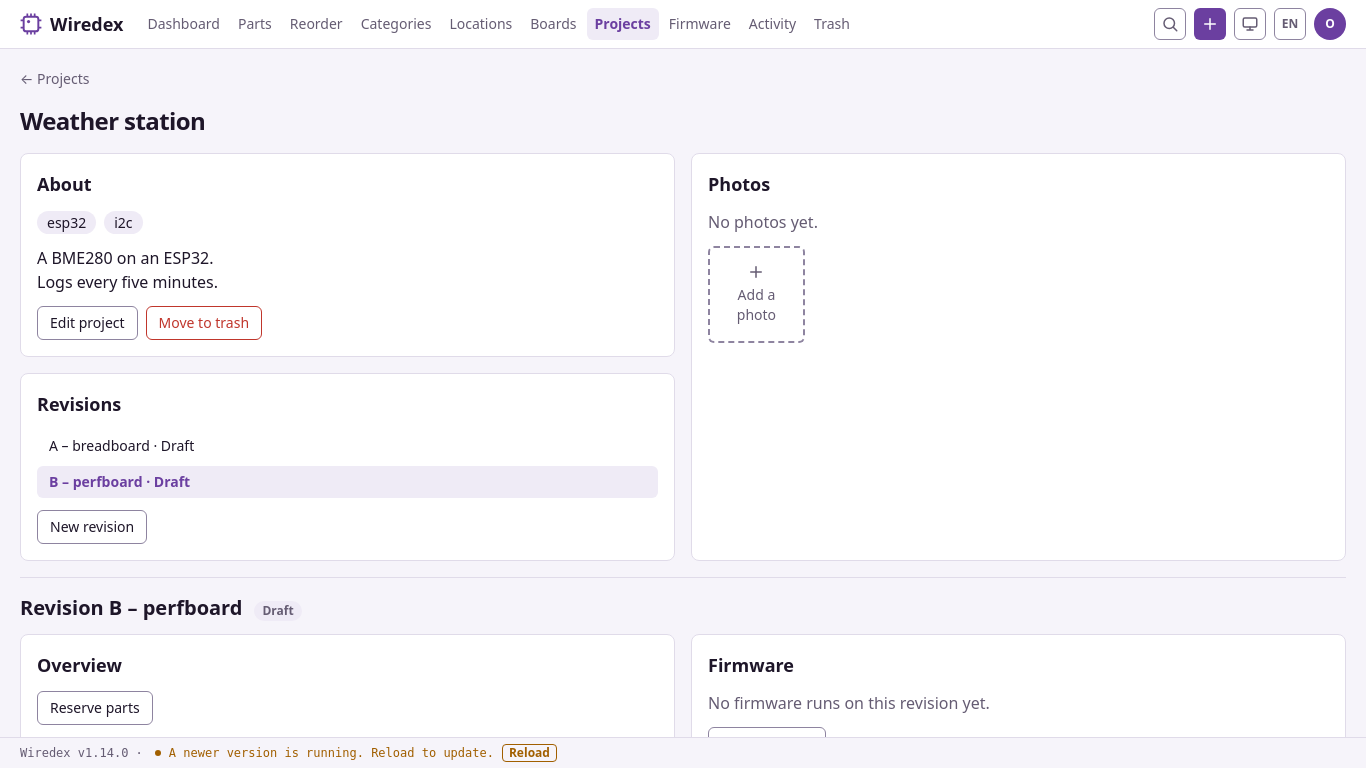
Test: ProjectPage › edits the project in place and shows the saved details
Click the button "Edit project" at [87, 323], box [37,306,138,340]
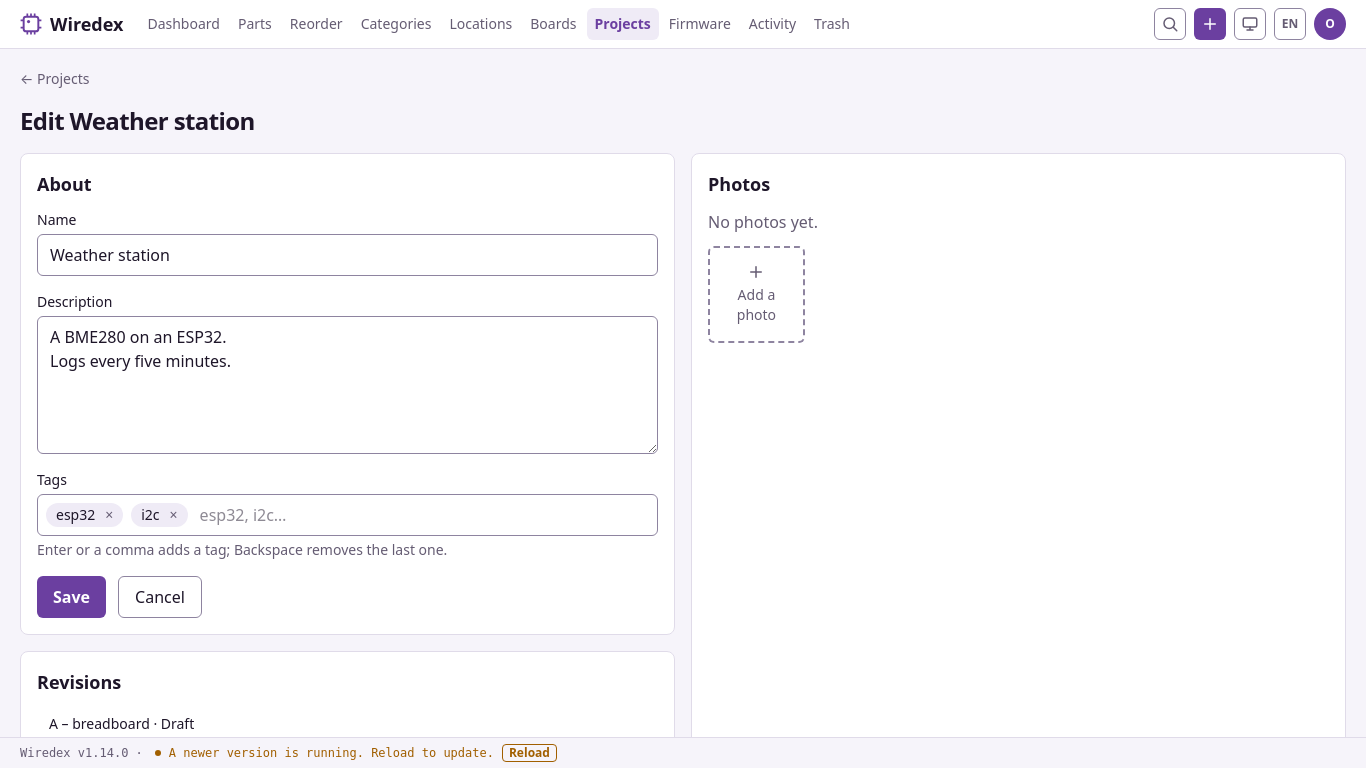
Result: the heading "Edit Weather station" is shown at [20,104,255,137]
Result: the field labelled "Name" holds "Weather station"
Replace the text in the field labelled "Name" with "Weather station mk2" at [348, 255], box [37,234,658,276]
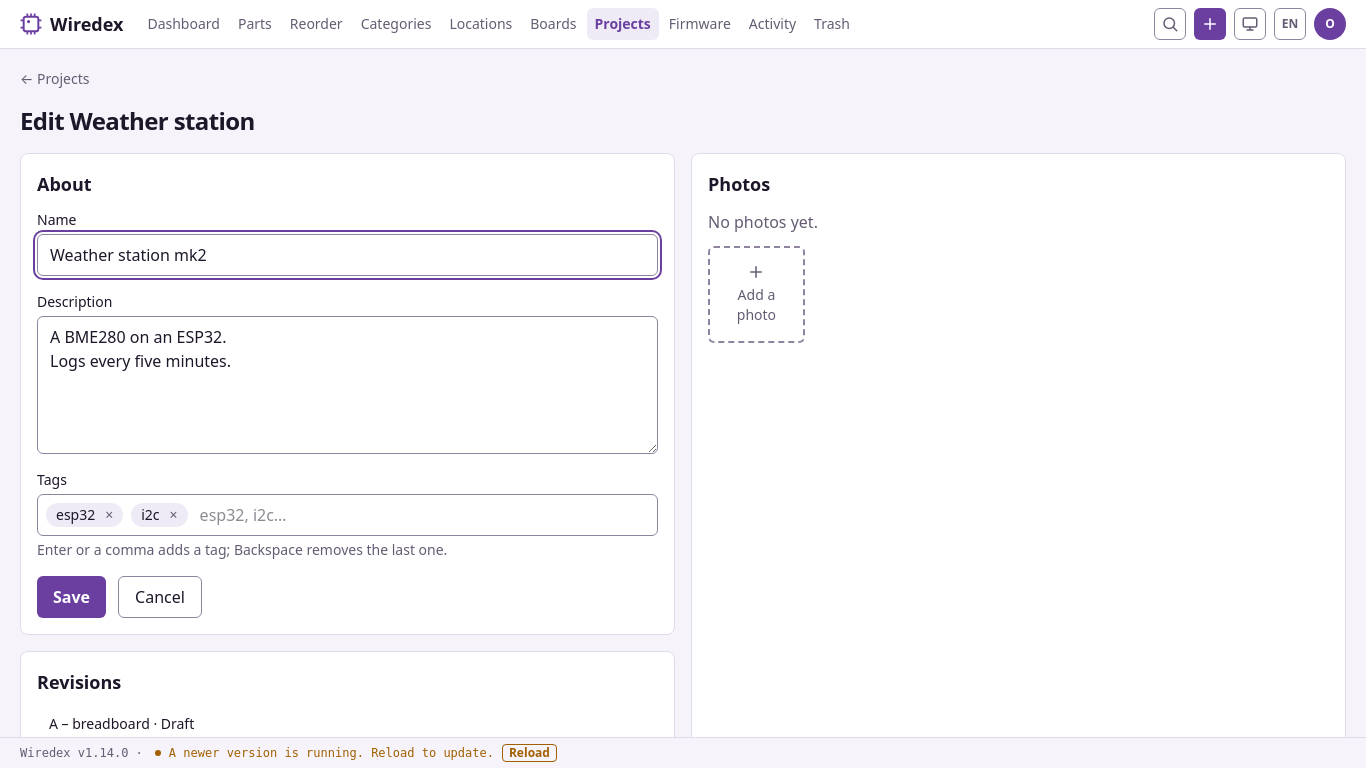
Click the button "Save" at [72, 597], box [37,576,106,618]
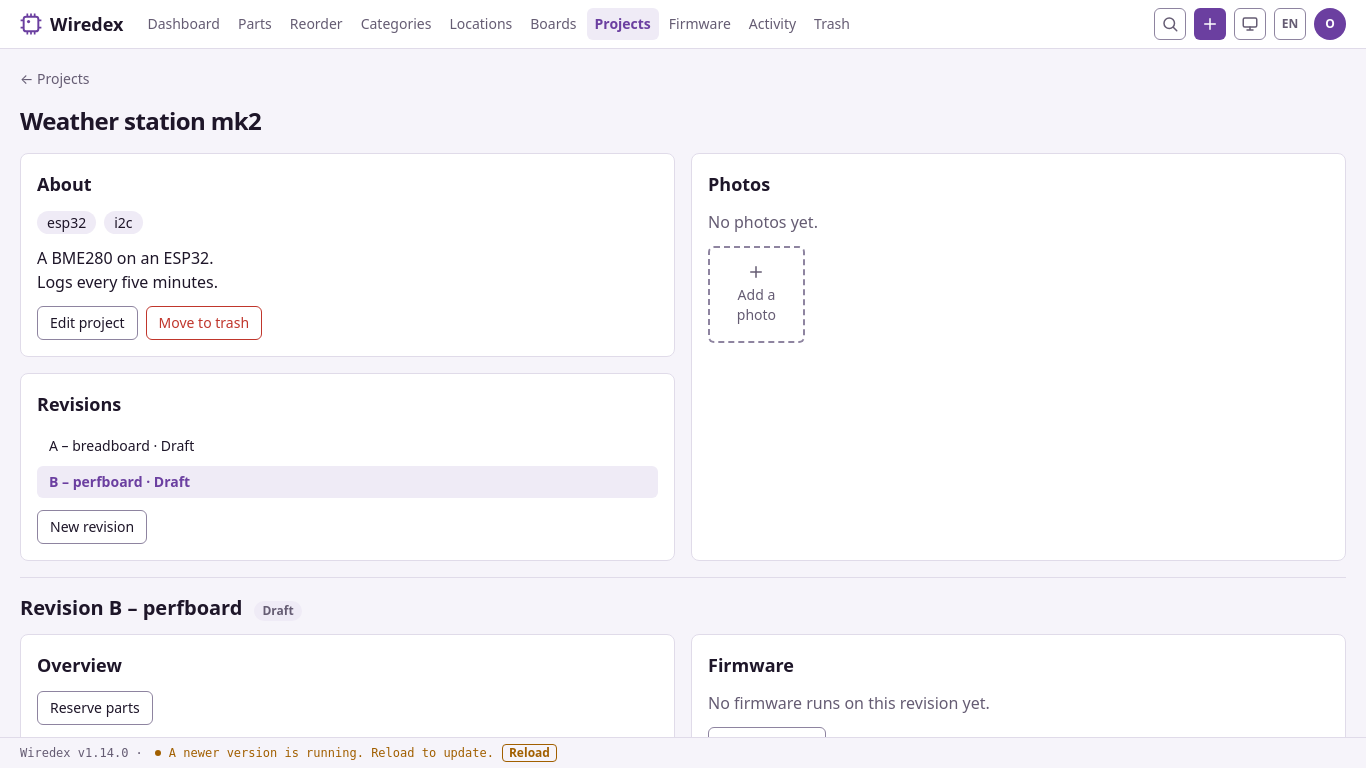
Result: the heading "Weather station mk2" is shown at [20,104,261,137]
Result: the label "Name" is gone
